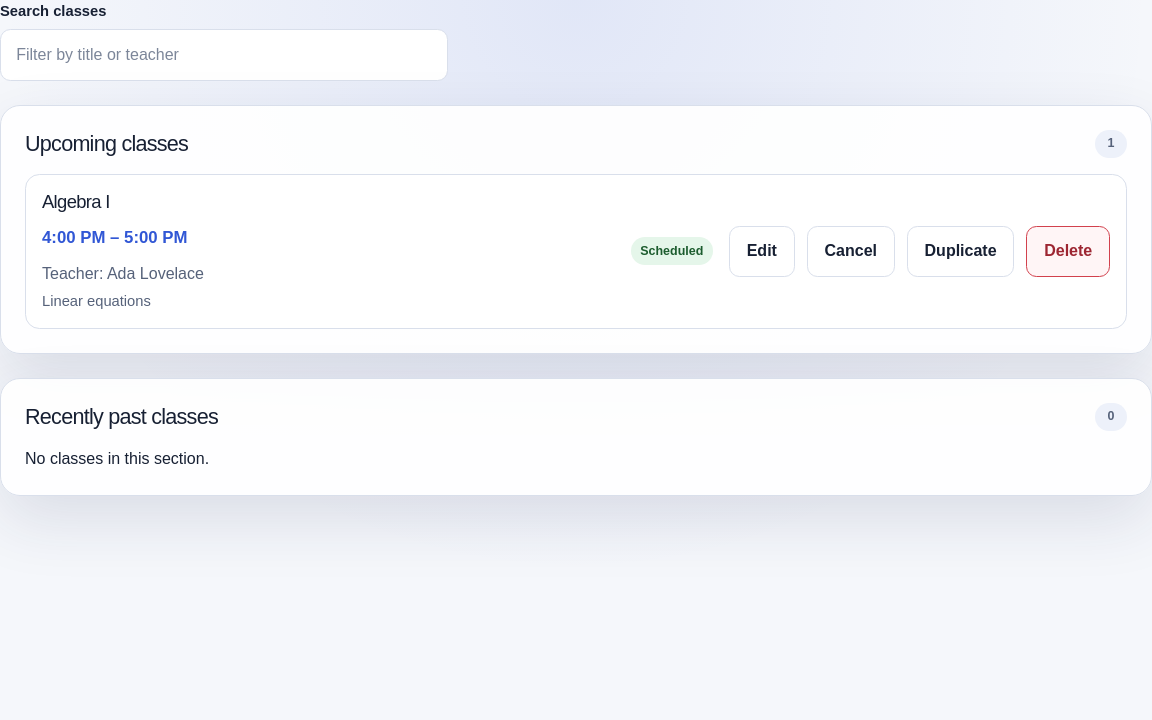
Test: AdminClassList › announces delete failures returned by the server action
Click the button with aria-label "Delete Algebra I".
click(1068, 251)  # box [1026,226,1110,277]
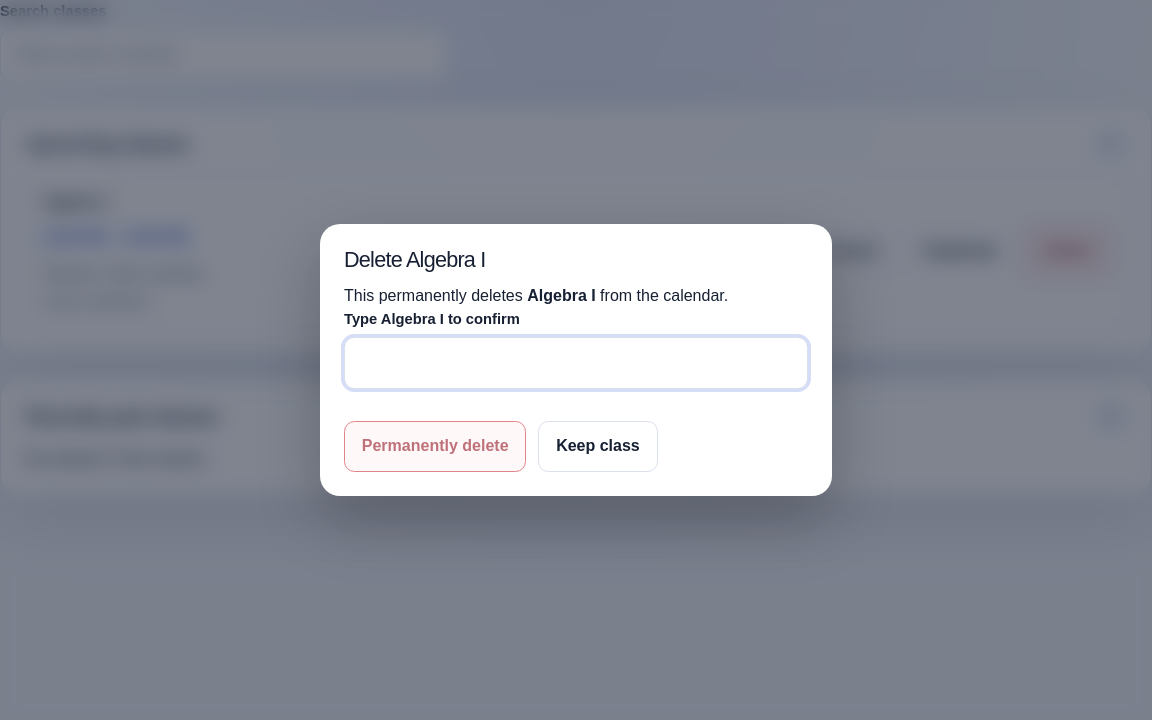
Type "Algebra I" into the field labelled "Type Algebra I to confirm".
click(576, 363); type("Algebra I")  # box [344,337,808,389]
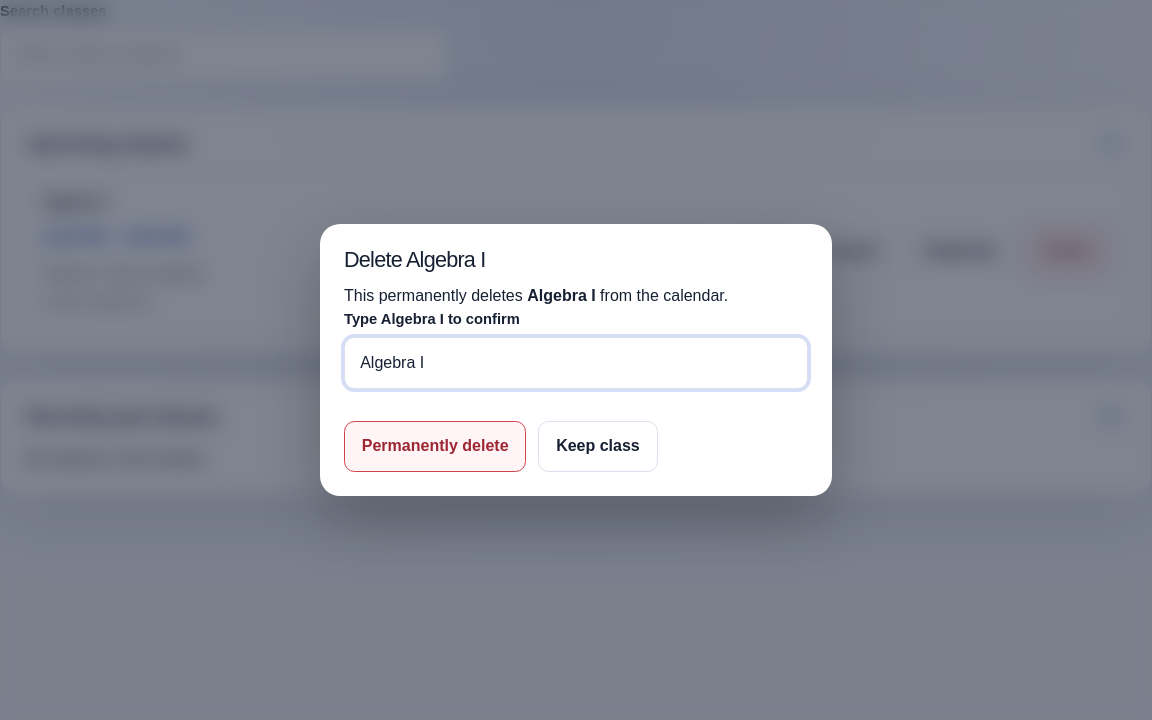
Click the button "Permanently delete".
click(435, 446)  # box [344,421,526,472]
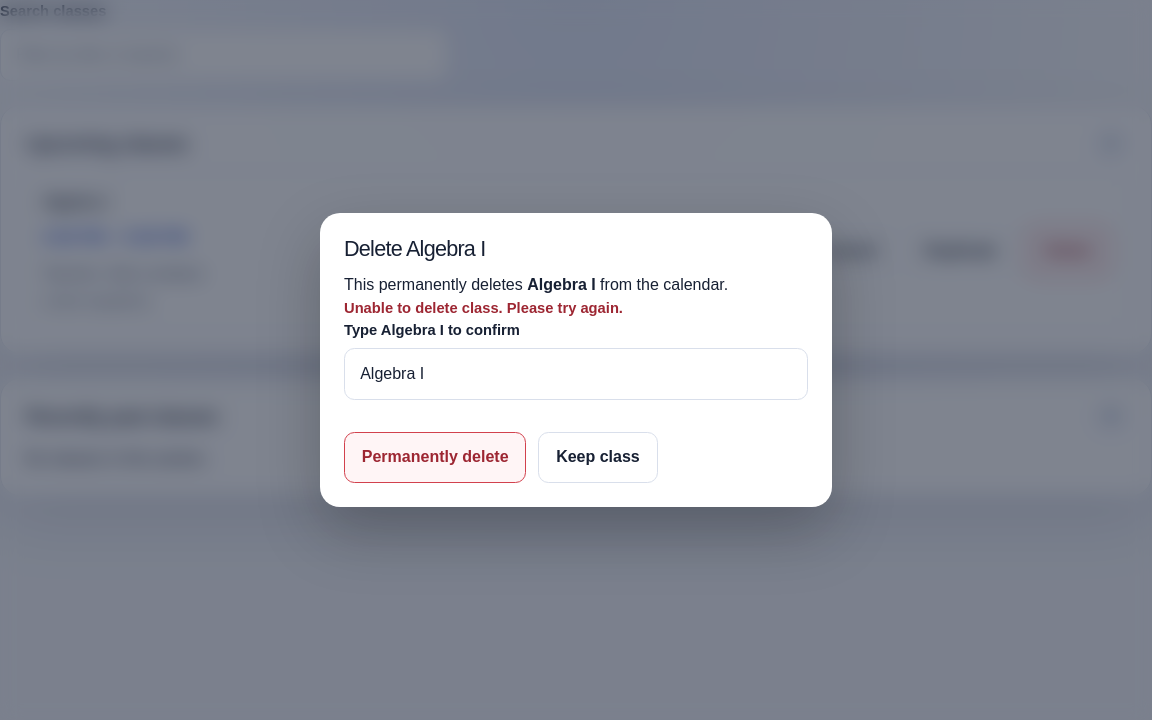
Expected: the message reads "Unable to delete class. Please try again.", [344,300,623,316]
